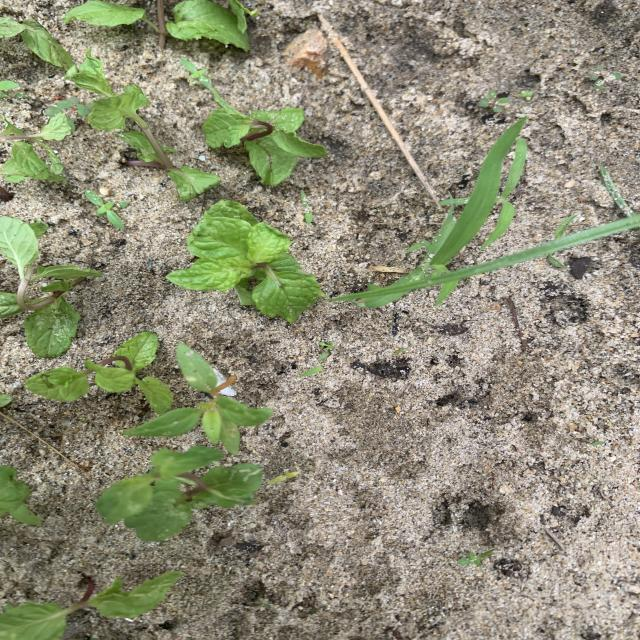crop: (22, 32, 219, 198), (167, 200, 323, 321), (96, 447, 263, 539), (2, 218, 101, 356), (25, 332, 172, 414), (204, 92, 327, 185), (1, 576, 180, 639), (61, 0, 257, 51), (0, 112, 74, 183), (0, 466, 40, 523)
weed: (327, 118, 527, 306), (124, 343, 272, 454), (86, 190, 128, 227), (46, 97, 90, 117), (182, 59, 211, 86), (479, 90, 508, 116), (458, 551, 492, 567), (301, 190, 312, 226), (269, 472, 299, 483), (319, 341, 334, 359), (301, 365, 323, 375), (519, 90, 532, 99)
